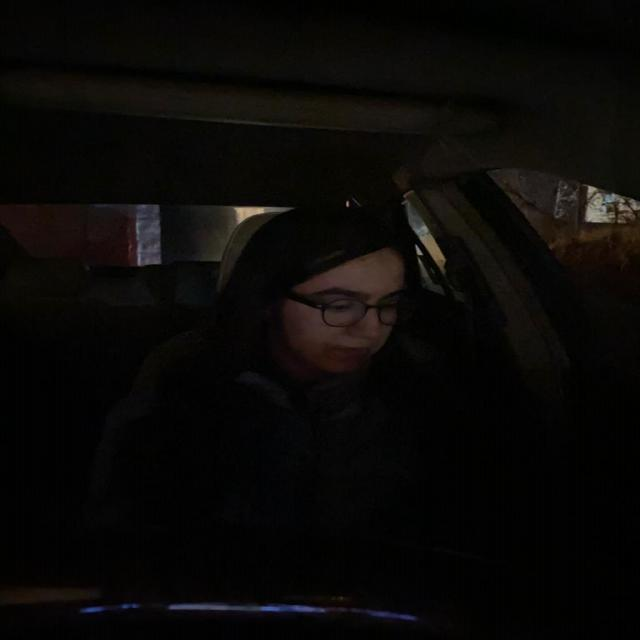drowsy: (238, 205, 427, 388)
